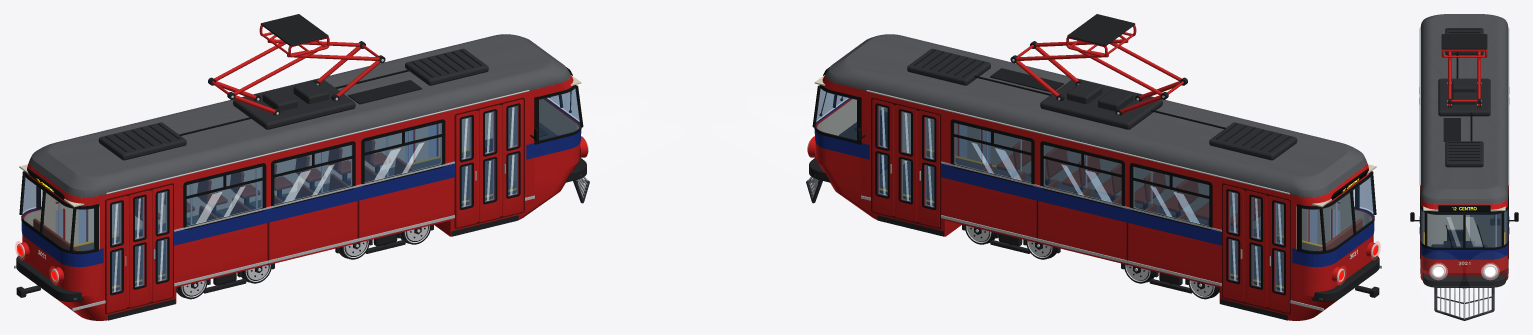
Rendered from bonde.glb.
The picture shows the model from 3 angles, left to right: view 1: azimuth 30°, elevation 25°; view 2: azimuth 150°, elevation 25°; view 3: azimuth 270°, elevation 25°; orthographic projection. The views are drawn at different scales.
Visible parts, largest first — view 1: Carroceria_pintura_vermelha, Carroceria_teto_cinza, Janelas_vidro_azulado, Portas_pintura_vermelha, Forro_Interno_interior_painel, Janelas_borracha, Teto_Equipamentos_equipamento_teto, Faixa_Azul_faixa_azul, Vidros_Cabine_vidro_azulado, Interior_banco_couro, Frisos_Aluminio_friso_aluminio, Pantografo_mesh_pantografo_vermelho (+12 smaller); view 2: Carroceria_pintura_vermelha, Carroceria_teto_cinza, Janelas_vidro_azulado, Portas_pintura_vermelha, Janelas_borracha, Teto_Equipamentos_equipamento_teto, Forro_Interno_interior_painel, Faixa_Azul_faixa_azul, Vidros_Cabine_vidro_azulado, Interior_banco_couro, Frisos_Aluminio_friso_aluminio, Pantografo_mesh_pantografo_vermelho (+12 smaller); view 3: Carroceria_teto_cinza, Teto_Equipamentos_equipamento_teto, Vidros_Cabine_vidro_azulado, Carroceria_pintura_vermelha, Interior_interior_painel, Interior_interior_piso, Para_Choques_chassi, Vidros_Cabine_borracha, Faixa_Azul_faixa_azul, Pantografo_mesh_chassi, Teto_Equipamentos_chassi, Pantografo_mesh_pantografo_vermelho (+15 smaller).
Boxes of the visible parts, left/top/right/bottom form: Carroceria_pintura_vermelha: left=22, top=74, right=580, bottom=320; Carroceria_teto_cinza: left=29, top=34, right=570, bottom=197; Janelas_vidro_azulado: left=56, top=105, right=517, bottom=292; Portas_pintura_vermelha: left=86, top=99, right=523, bottom=312; Forro_Interno_interior_painel: left=24, top=99, right=578, bottom=292; Janelas_borracha: left=56, top=103, right=520, bottom=295; Teto_Equipamentos_equipamento_teto: left=98, top=48, right=488, bottom=160; Faixa_Azul_faixa_azul: left=21, top=98, right=581, bottom=267; Vidros_Cabine_vidro_azulado: left=21, top=87, right=580, bottom=251; Interior_banco_couro: left=33, top=140, right=414, bottom=250; Frisos_Aluminio_friso_aluminio: left=14, top=90, right=534, bottom=310; Pantografo_mesh_pantografo_vermelho: left=212, top=25, right=379, bottom=113; Carroceria_pintura_vermelha: left=815, top=74, right=1373, bottom=320; Carroceria_teto_cinza: left=825, top=34, right=1366, bottom=197; Janelas_vidro_azulado: left=878, top=105, right=1339, bottom=292; Portas_pintura_vermelha: left=872, top=99, right=1309, bottom=312; Janelas_borracha: left=875, top=103, right=1339, bottom=295; Teto_Equipamentos_equipamento_teto: left=907, top=48, right=1297, bottom=160; Forro_Interno_interior_painel: left=817, top=99, right=1371, bottom=292; Faixa_Azul_faixa_azul: left=814, top=98, right=1374, bottom=267; Vidros_Cabine_vidro_azulado: left=815, top=87, right=1374, bottom=251; Interior_banco_couro: left=981, top=140, right=1362, bottom=250; Frisos_Aluminio_friso_aluminio: left=861, top=90, right=1381, bottom=310; Pantografo_mesh_pantografo_vermelho: left=1016, top=25, right=1183, bottom=113; Carroceria_teto_cinza: left=1420, top=14, right=1508, bottom=204; Teto_Equipamentos_equipamento_teto: left=1438, top=28, right=1490, bottom=167; Vidros_Cabine_vidro_azulado: left=1420, top=208, right=1508, bottom=247; Carroceria_pintura_vermelha: left=1421, top=198, right=1507, bottom=280; Interior_interior_painel: left=1423, top=206, right=1505, bottom=246; Interior_interior_piso: left=1423, top=212, right=1505, bottom=247; Para_Choques_chassi: left=1422, top=273, right=1506, bottom=287; Vidros_Cabine_borracha: left=1420, top=193, right=1508, bottom=249; Faixa_Azul_faixa_azul: left=1420, top=244, right=1508, bottom=259; Pantografo_mesh_chassi: left=1441, top=34, right=1487, bottom=107; Teto_Equipamentos_chassi: left=1443, top=28, right=1480, bottom=160; Pantografo_mesh_pantografo_vermelho: left=1441, top=49, right=1487, bottom=106.
Bounding box in the file's own units: 16.16 × 5.48 × 3.1.
